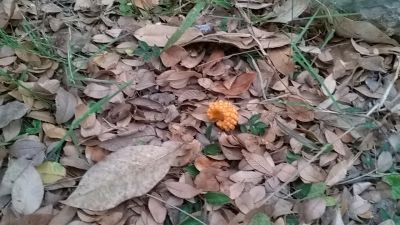eggs: (205, 98, 240, 131)
